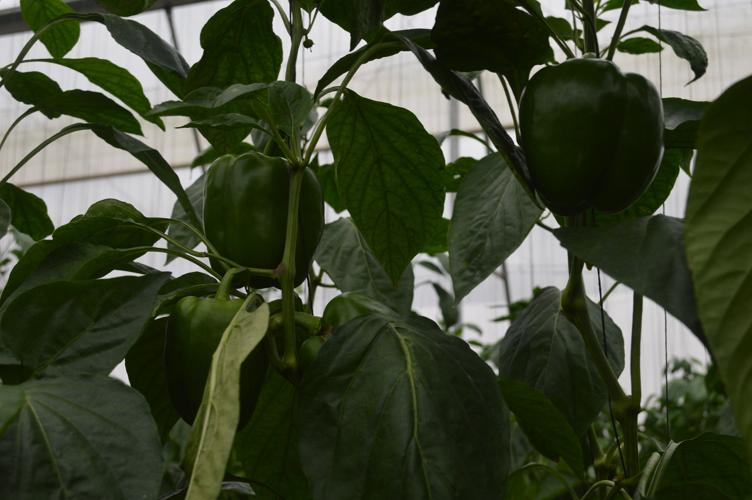BellPepper: (514, 42, 664, 226), (170, 139, 337, 292), (150, 293, 278, 442)
